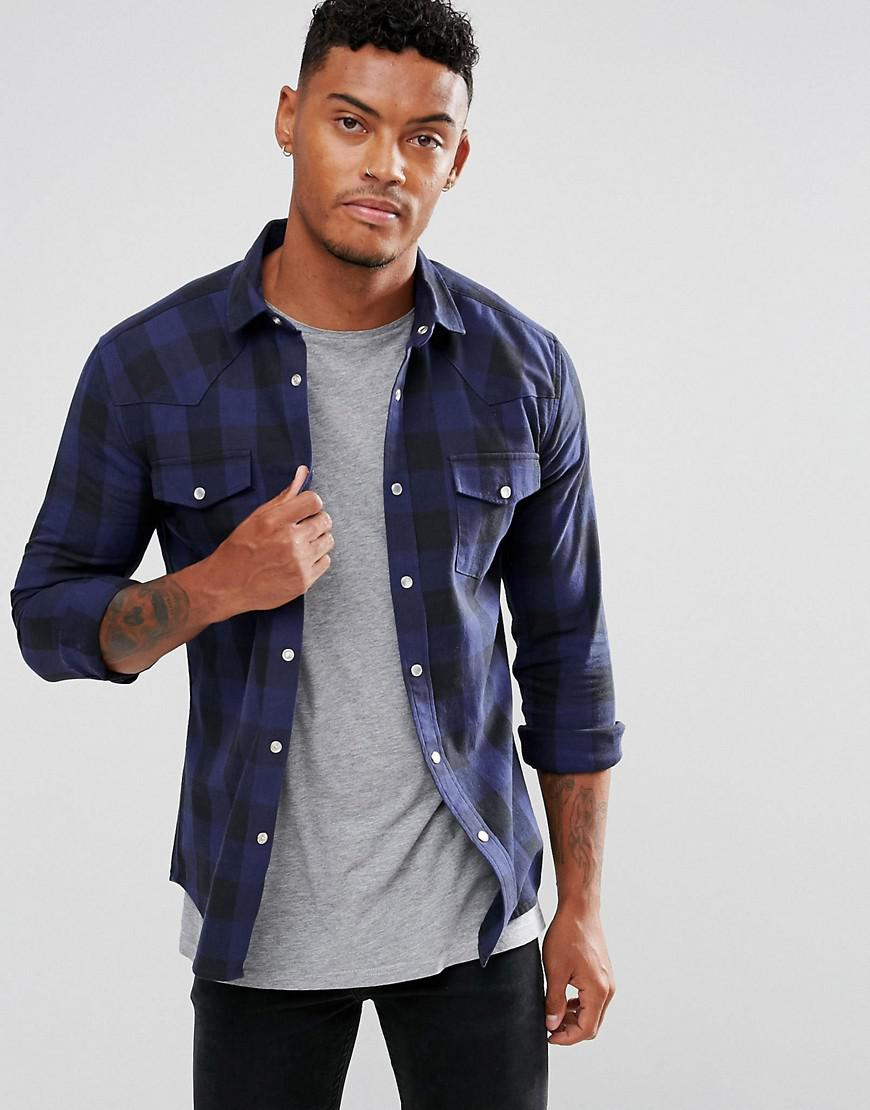teeshirt: (7, 234, 644, 981)
